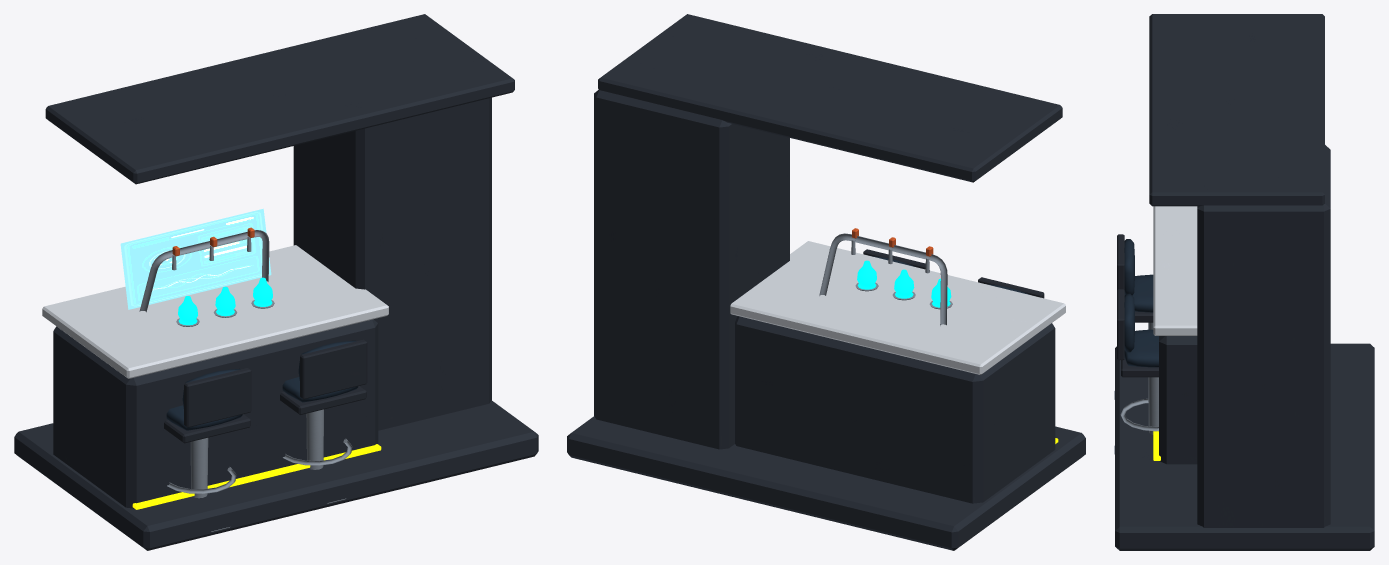
Rendered from lounge_bar_r1_04.glb.
The picture shows the model from 3 angles, left to right: view 1: azimuth 30°, elevation 25°; view 2: azimuth 150°, elevation 25°; view 3: azimuth 270°, elevation 25°; orthographic projection. The views are drawn at different scales.
Visible parts, largest first — view 1: Lounge04_CanopyCarbonSlateChassis, Lounge04_AerospaceWhiteCounter, Lounge04_OLEDCelestialConsole, Lounge04_CharcoalBolsters, Lounge04_MachinedSteelSiphonAndPedestals, Lounge04_OrbitalNavyBarstools, Lounge04_CyanDecantersAndGlasses, Lounge04_AmberDecantersAndFootrail; view 2: Lounge04_CanopyCarbonSlateChassis, Lounge04_AerospaceWhiteCounter, Lounge04_MachinedSteelSiphonAndPedestals, Lounge04_CyanDecantersAndGlasses, Lounge04_CharcoalBolsters; view 3: Lounge04_CanopyCarbonSlateChassis, Lounge04_AerospaceWhiteCounter, Lounge04_OrbitalNavyBarstools, Lounge04_CharcoalBolsters, Lounge04_MachinedSteelSiphonAndPedestals.
Boxes of the visible parts, <box> form: Lounge04_CanopyCarbonSlateChassis: <box>14,14,538,550</box>; Lounge04_AerospaceWhiteCounter: <box>42,245,388,378</box>; Lounge04_OLEDCelestialConsole: <box>120,208,271,309</box>; Lounge04_CharcoalBolsters: <box>164,339,367,443</box>; Lounge04_MachinedSteelSiphonAndPedestals: <box>139,230,352,531</box>; Lounge04_OrbitalNavyBarstools: <box>166,340,358,430</box>; Lounge04_CyanDecantersAndGlasses: <box>178,277,272,325</box>; Lounge04_AmberDecantersAndFootrail: <box>132,444,381,509</box>; Lounge04_CanopyCarbonSlateChassis: <box>567,14,1085,550</box>; Lounge04_AerospaceWhiteCounter: <box>730,241,1065,374</box>; Lounge04_MachinedSteelSiphonAndPedestals: <box>819,233,952,325</box>; Lounge04_CyanDecantersAndGlasses: <box>857,260,951,307</box>; Lounge04_CharcoalBolsters: <box>863,249,1044,298</box>; Lounge04_CanopyCarbonSlateChassis: <box>1115,14,1374,550</box>; Lounge04_AerospaceWhiteCounter: <box>1153,206,1197,335</box>; Lounge04_OrbitalNavyBarstools: <box>1124,239,1158,367</box>; Lounge04_CharcoalBolsters: <box>1117,234,1158,377</box>; Lounge04_MachinedSteelSiphonAndPedestals: <box>1114,322,1158,454</box>.
Size of the model in its own units: 2.32 by 2.06 by 1.36.
12 materials, 12 textured.
